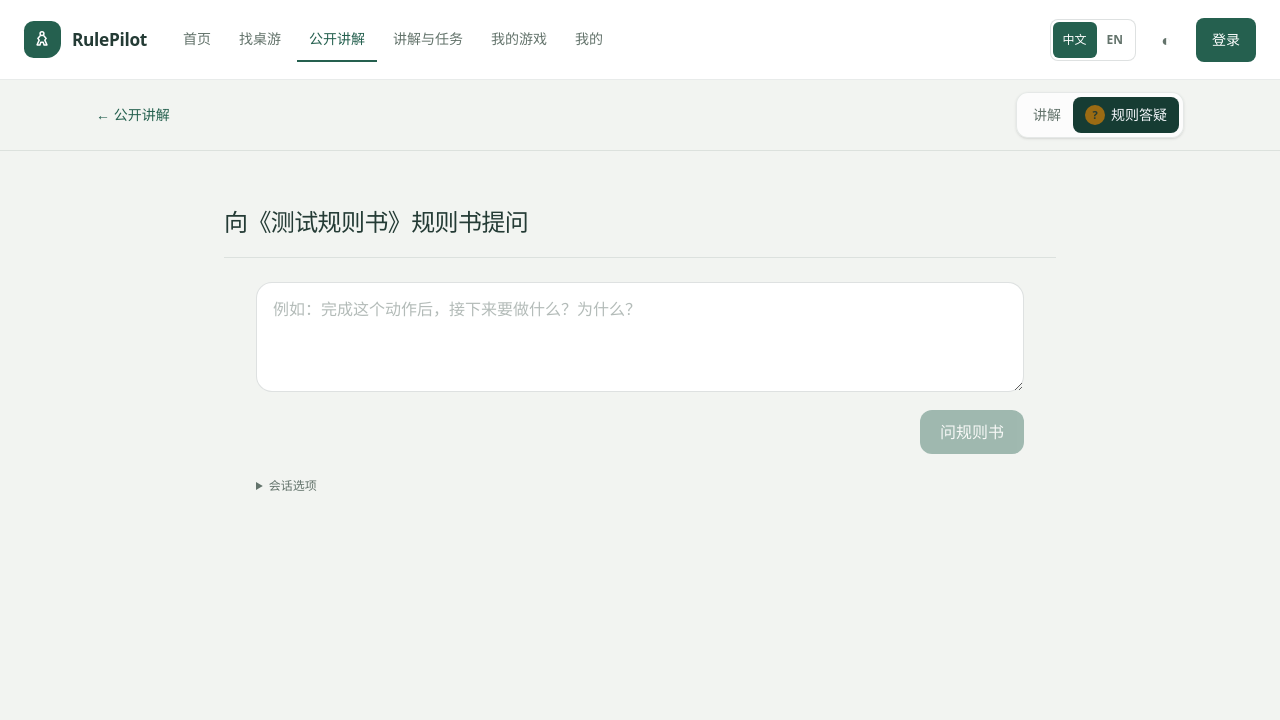
Test: PublicLessonView failure visibility › does not tell the player to rewrite a question after invalid model JSON
Step 1. Type "什么时候结算？" into the text box with placeholder "例如：完成这个动作后，接下来要做什么？为什么？" → (640, 337), box [256,282,1024,392]
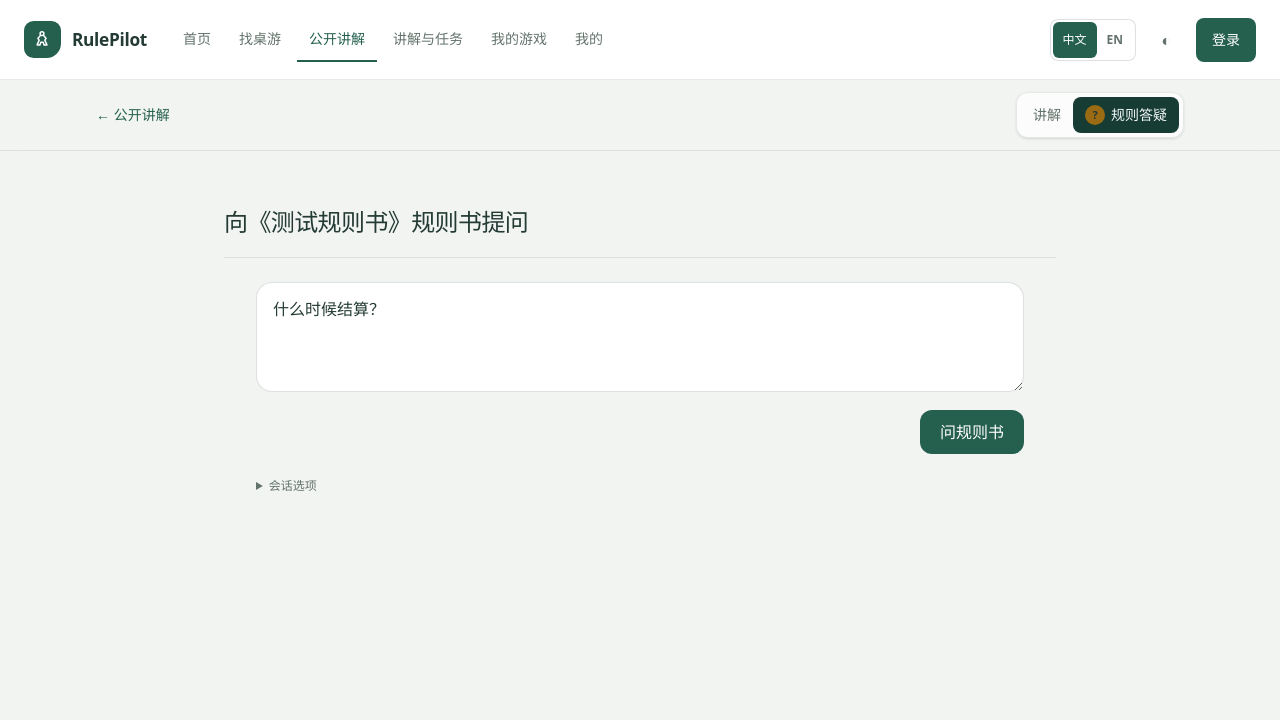
Step 2. Submit the form, box [256,282,1024,454]
(page scrolled)
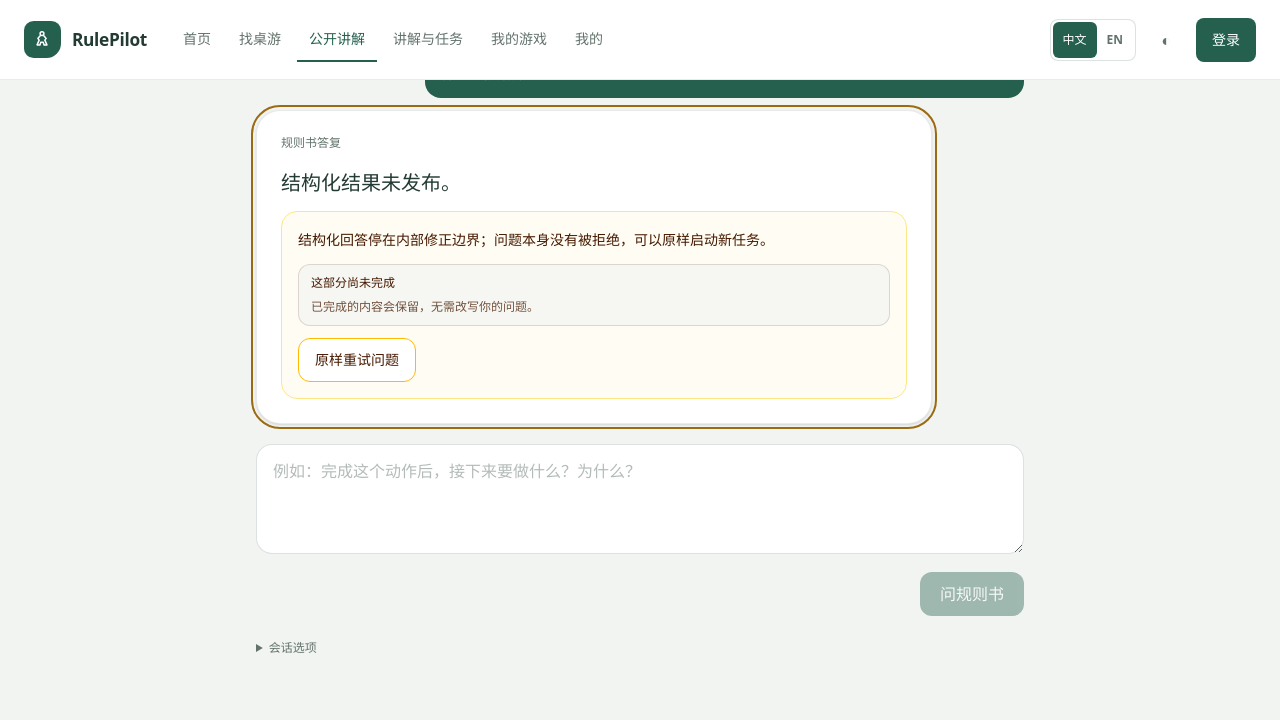
Expected: the text "问题本身没有被拒绝" is shown, [298,230,774,249]
